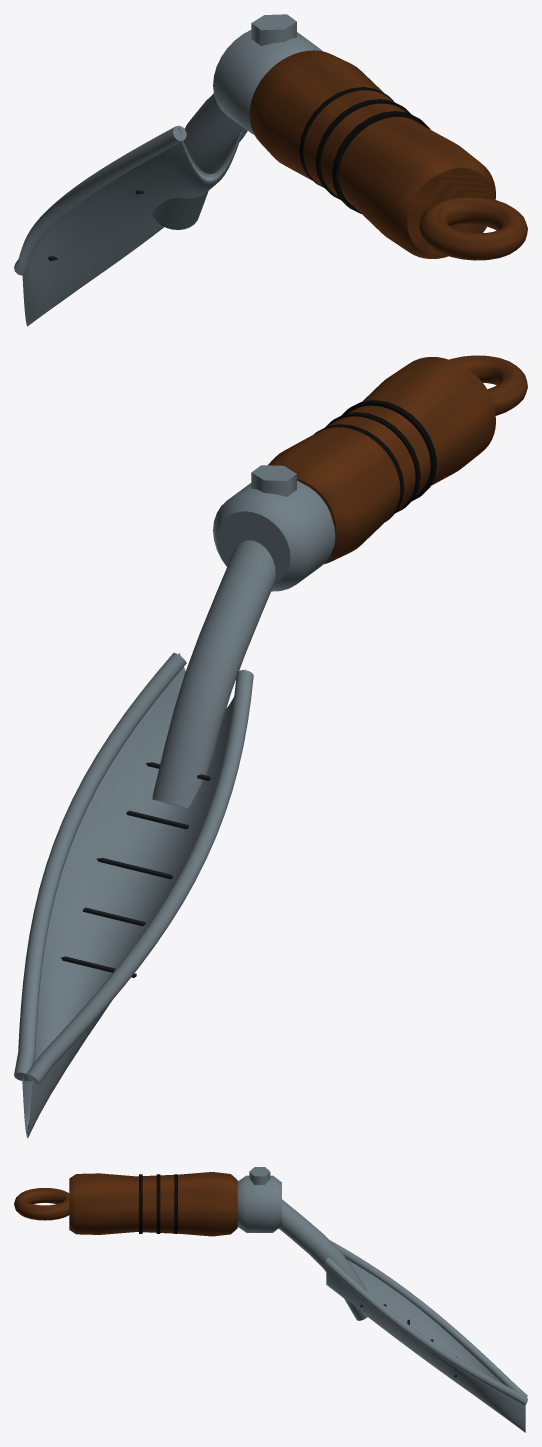
The model's file is HandTransplanter.gltf.
The picture shows the model from 3 angles, top to bottom: view 1: azimuth 30°, elevation 25°; view 2: azimuth 150°, elevation 25°; view 3: azimuth 270°, elevation 25°; orthographic projection. The views are drawn at different scales.
Parts seen in each view (by area): view 1: HandTransplanter__Body; view 2: HandTransplanter__Body; view 3: HandTransplanter__Body.
Boxes of the visible parts, x1=… form: HandTransplanter__Body: x1=14, y1=14, x2=527, y2=326; HandTransplanter__Body: x1=14, y1=355, x2=527, y2=1138; HandTransplanter__Body: x1=14, y1=1167, x2=527, y2=1432.
Bounding box in the file's own units: 0.0533 × 0.1722 × 0.307.
Materials: 1 (1 with a texture image).
